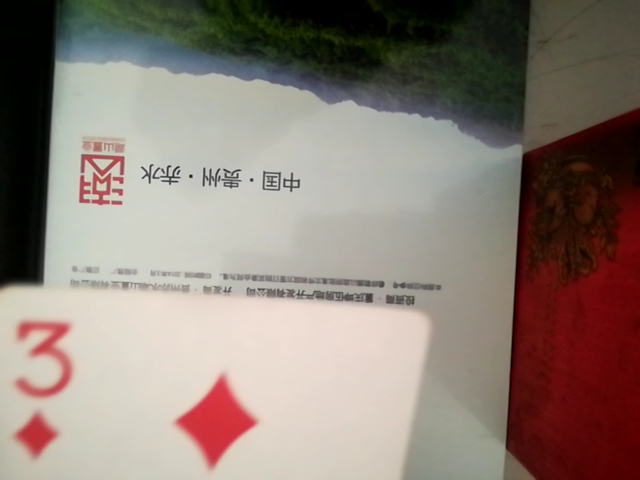fk 3: (0, 273, 439, 475)
